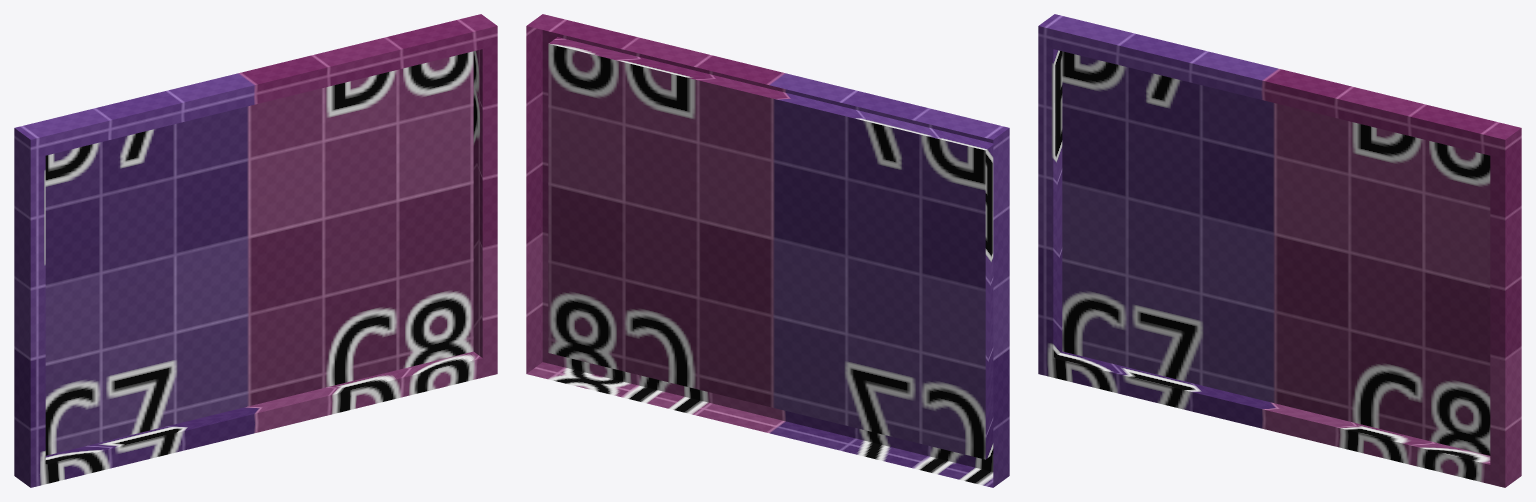
Rendered from JanelaHorizontal.fbx.
The picture shows the model from 3 angles, left to right: view 1: azimuth 30°, elevation 25°; view 2: azimuth 150°, elevation 25°; view 3: azimuth 330°, elevation 25°; orthographic projection.
Visible parts, largest first — view 1: JanelaHorizontal; view 2: JanelaHorizontal; view 3: JanelaHorizontal.
Part boxes in pixels (left/top/right/bottom): JanelaHorizontal: left=14, top=14, right=497, bottom=487; JanelaHorizontal: left=526, top=14, right=1009, bottom=487; JanelaHorizontal: left=1038, top=14, right=1521, bottom=487.
Size of the model in its own units: 475 by 338 by 28.8.
